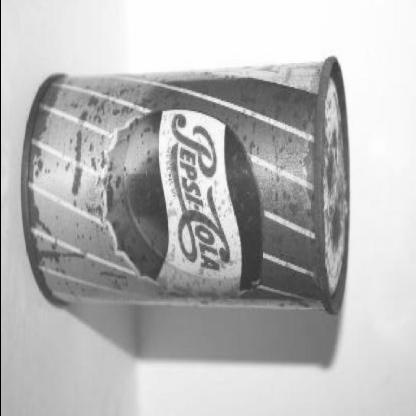alumunium_can: (21, 58, 351, 316)
